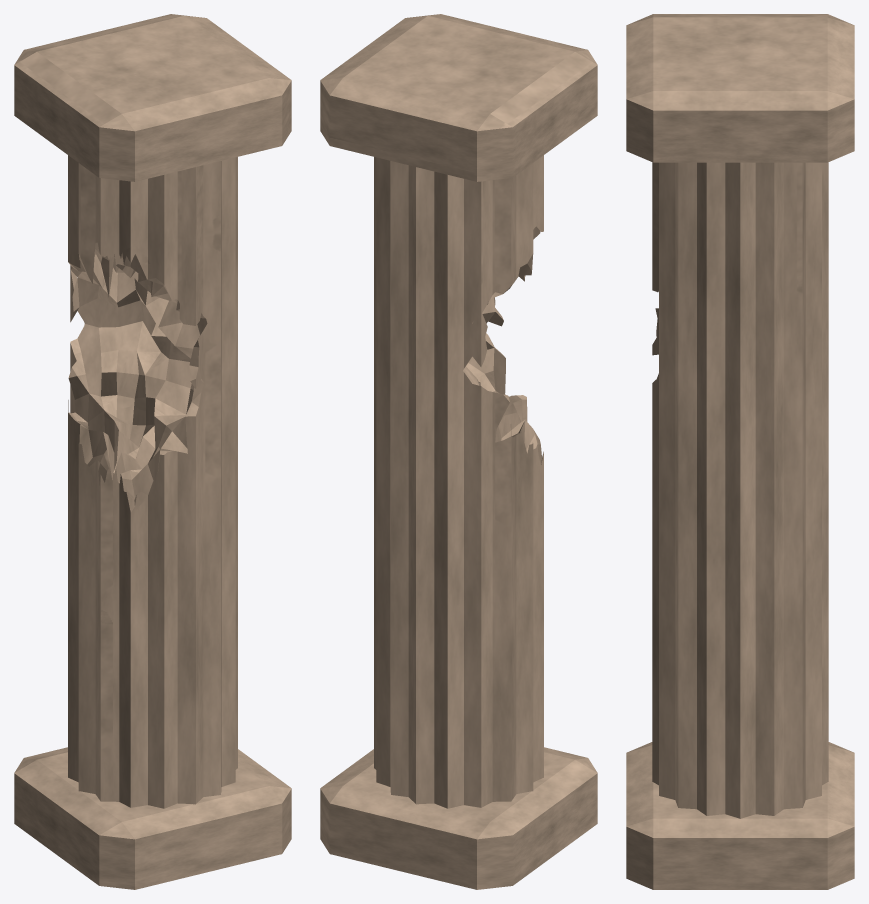
Rendered from Pillar_Rock_Square_Broken.fbx.
3 renders of one model, left to right at view 1: azimuth 30°, elevation 25°; view 2: azimuth 150°, elevation 25°; view 3: azimuth 270°, elevation 25°, orthographic. The views are drawn at different scales.
Visible parts, largest first — view 1: Pillar_SquareTop_White_Base.001, Cube.001, Cube.002; view 2: Pillar_SquareTop_White_Base.001, Cube.001, Cube.002; view 3: Pillar_SquareTop_White_Base.001, Cube.001, Cube.002.
Part boxes in pixels (x1,y1,x2,y2): Pillar_SquareTop_White_Base.001: (68,155,237,808); Cube.001: (14,14,291,181); Cube.002: (14,747,291,889); Pillar_SquareTop_White_Base.001: (374,155,543,808); Cube.001: (320,14,597,181); Cube.002: (320,747,597,889); Pillar_SquareTop_White_Base.001: (652,162,828,818); Cube.001: (626,14,854,162); Cube.002: (626,742,854,889).
Size of the model in its own units: 139 by 534 by 139.
1 material, 1 textured.
